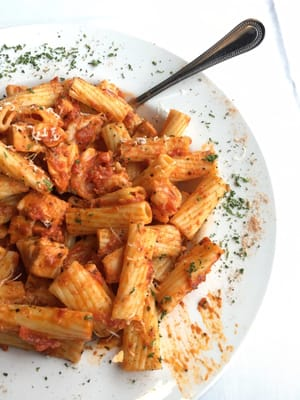salad: (130, 19, 266, 107)
sushi: (0, 4, 288, 398)
